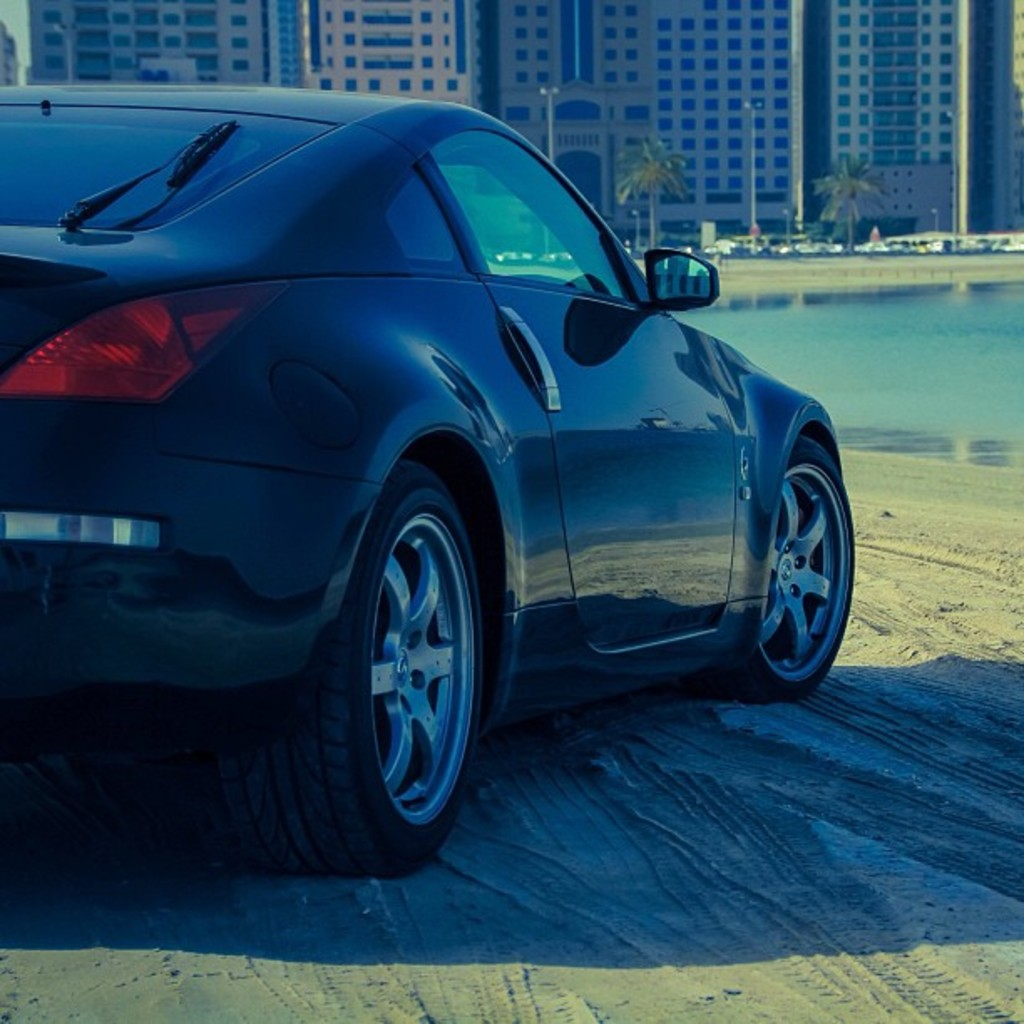Tree: (614, 132, 694, 247), (818, 157, 883, 248)
